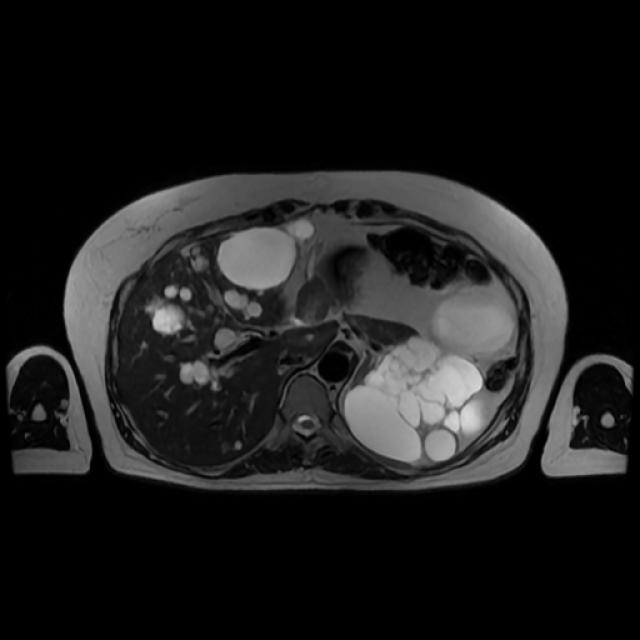sol: (346, 285, 515, 465)
